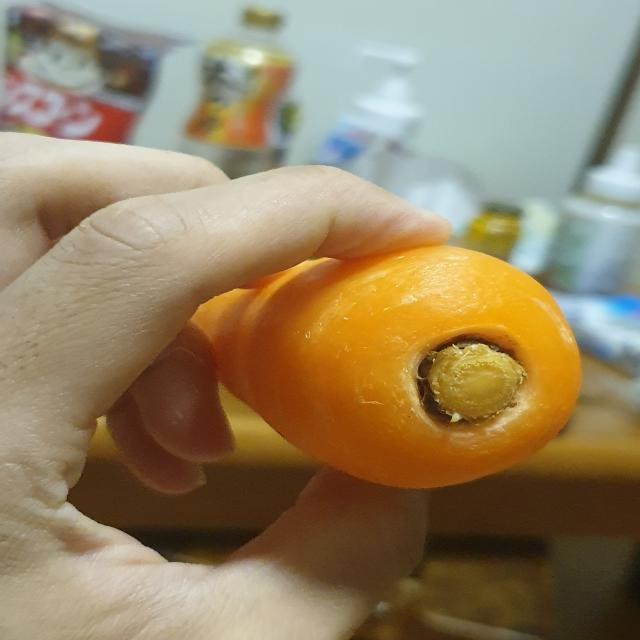Carrot: (175, 228, 589, 502)
